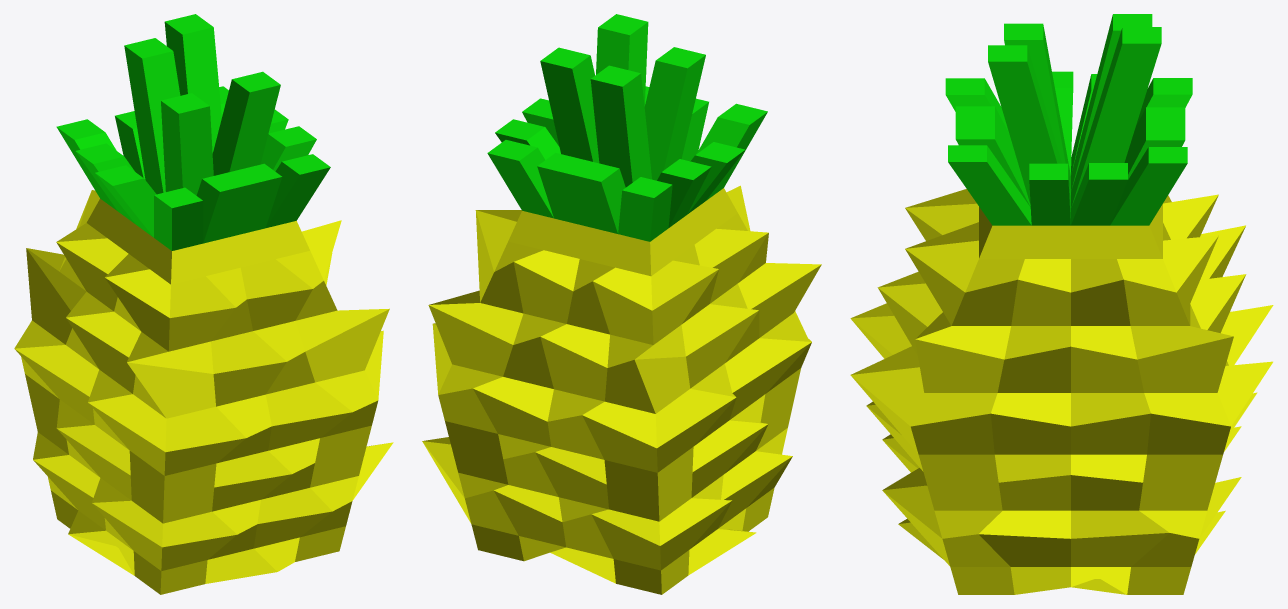
File: Nanas.fbx
3 renders of one model, left to right at view 1: azimuth 30°, elevation 25°; view 2: azimuth 150°, elevation 25°; view 3: azimuth 270°, elevation 25°, orthographic. The views are drawn at different scales.
Parts seen in each view (by area): view 1: Nanas; view 2: Nanas; view 3: Nanas.
Boxes of the visible parts, bbox=[...] form: Nanas: bbox=[14, 14, 393, 594]; Nanas: bbox=[422, 14, 821, 594]; Nanas: bbox=[850, 14, 1273, 594].
Bounding box in the file's own units: 532 × 815 × 596.
